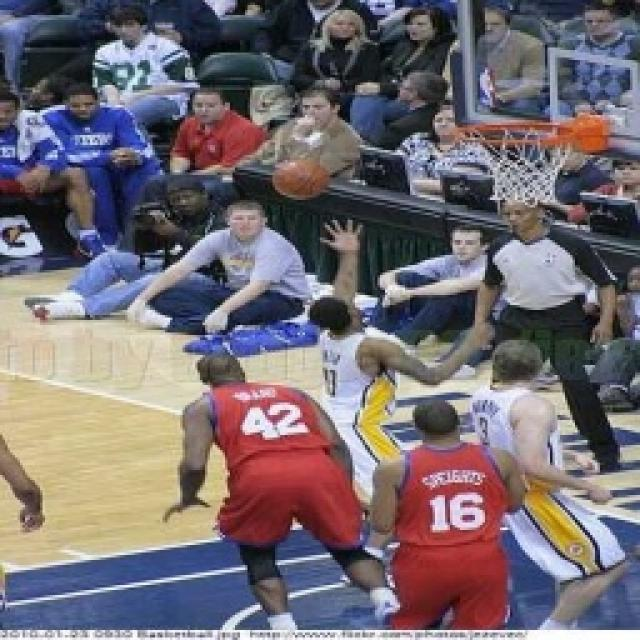rim: (276, 154, 328, 200)
